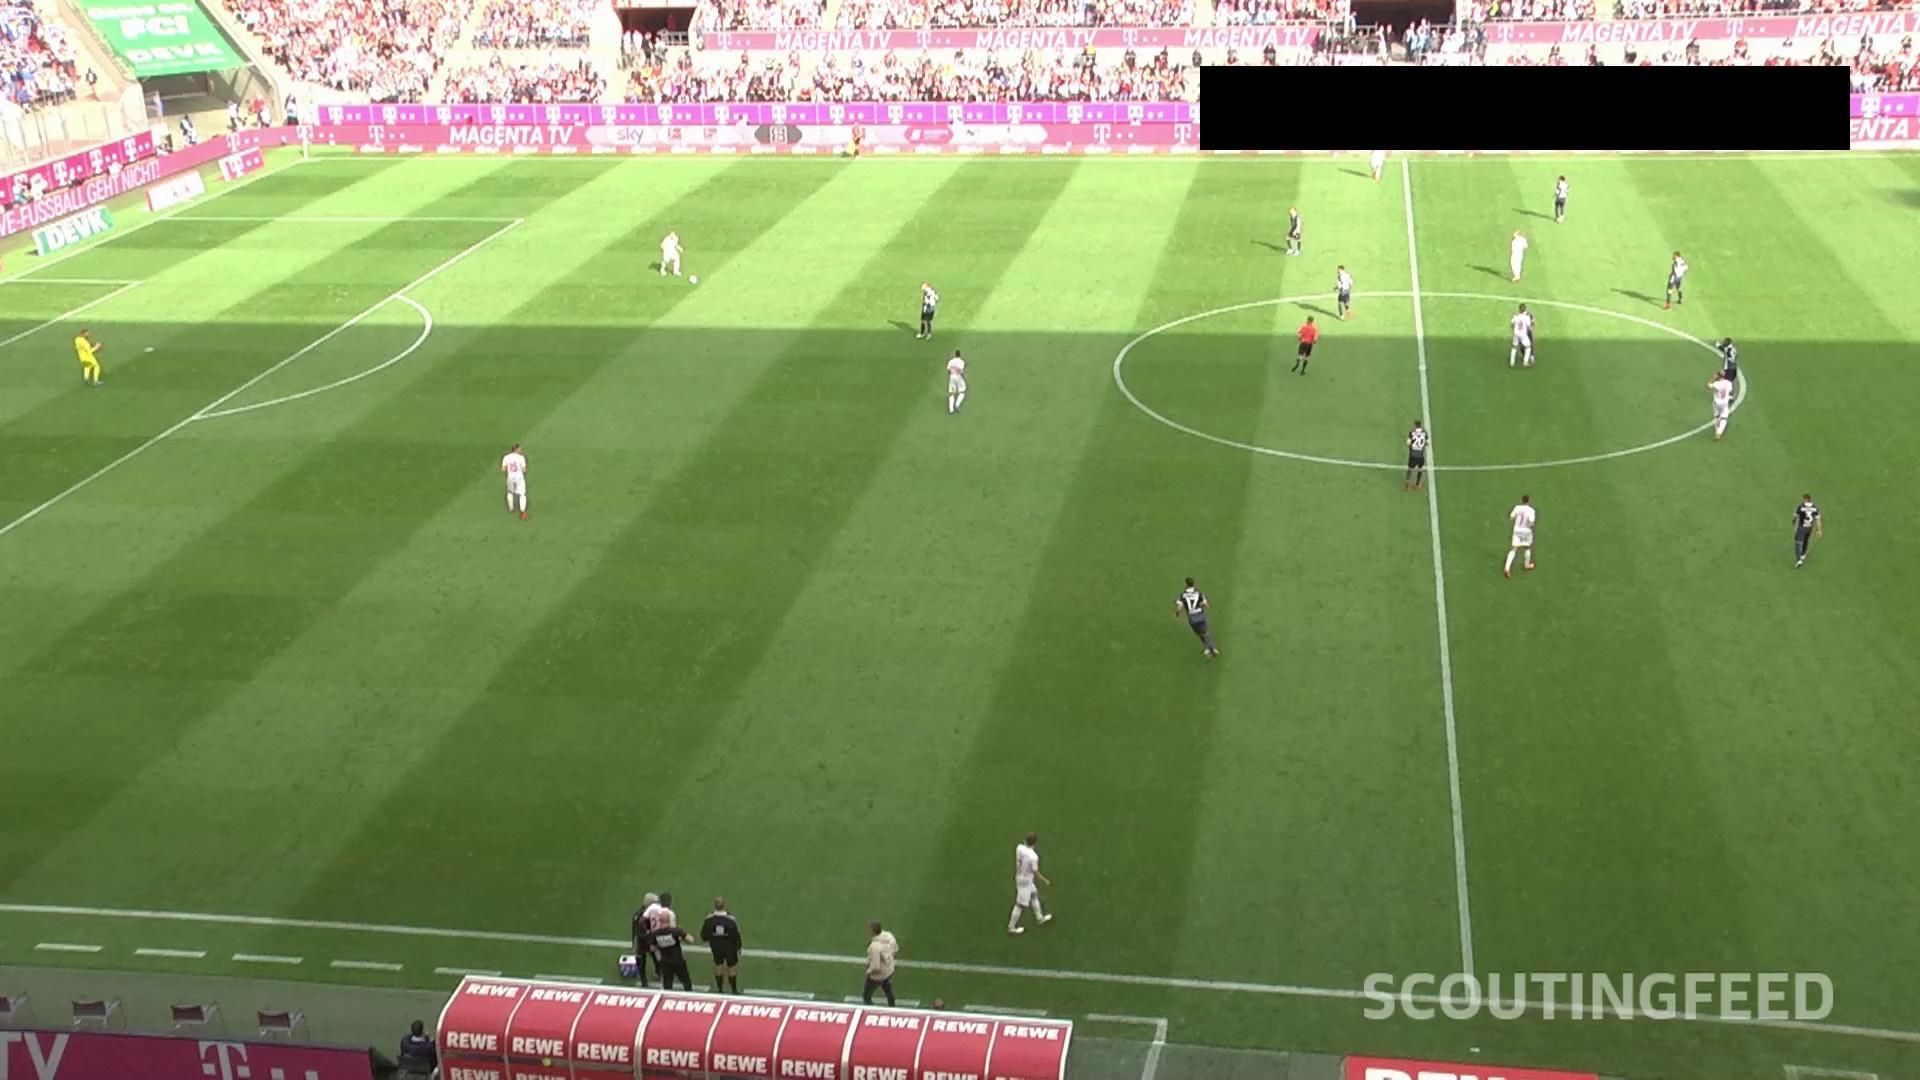Location-of-ball: (684, 272, 705, 289)
